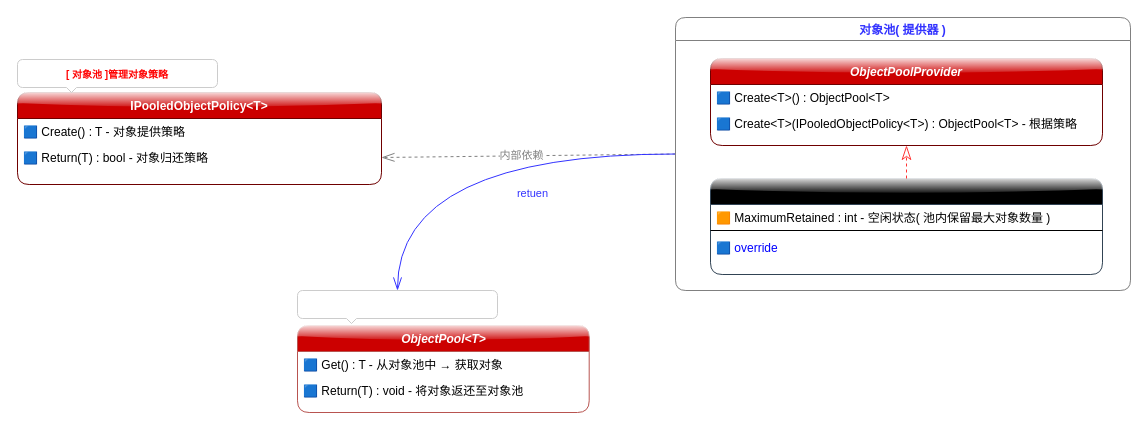
Image size: 1148x433. Some labels were removed from this diagram. Each missing label, with the box of its shape:
DefaultObjectPoolProvider: (710, 178, 1102, 274)
对象池: (296, 290, 498, 324)
